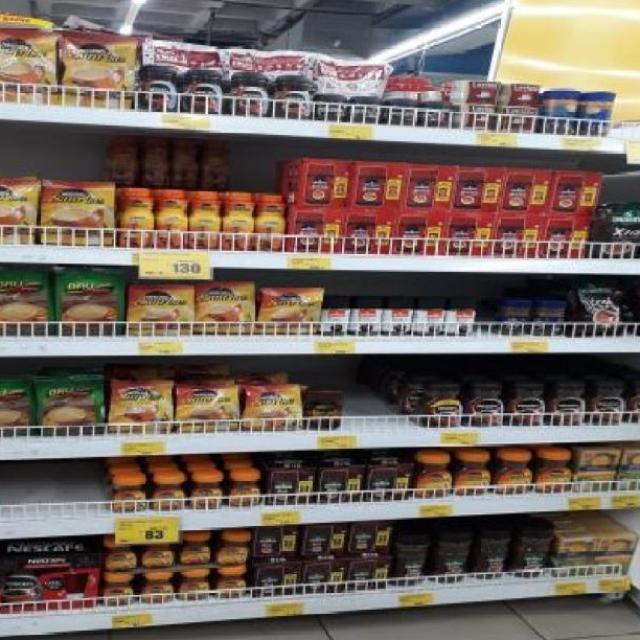Coffee: (60, 31, 138, 107), (44, 180, 113, 248), (0, 29, 56, 104), (110, 381, 174, 431), (130, 285, 191, 334), (196, 284, 254, 333), (177, 384, 238, 430), (260, 289, 319, 334), (244, 385, 302, 428), (117, 187, 153, 248), (0, 179, 33, 244), (417, 382, 462, 427), (140, 63, 182, 110), (230, 71, 271, 118), (186, 67, 225, 115), (189, 191, 219, 250), (223, 192, 253, 251), (275, 75, 313, 120), (158, 189, 186, 250), (255, 192, 284, 250), (508, 381, 545, 426), (468, 382, 505, 427), (549, 381, 585, 425), (415, 452, 451, 496), (495, 453, 532, 494), (590, 381, 625, 424), (457, 453, 492, 496), (109, 475, 146, 512), (538, 453, 570, 494), (153, 474, 185, 510), (100, 539, 136, 571), (189, 475, 222, 509), (228, 473, 260, 507), (386, 98, 423, 127), (142, 535, 174, 568), (216, 567, 249, 599), (100, 573, 133, 604), (219, 532, 249, 565), (141, 573, 173, 602), (179, 571, 209, 601), (181, 534, 210, 565), (351, 96, 383, 123), (318, 93, 348, 121), (420, 100, 450, 127)
